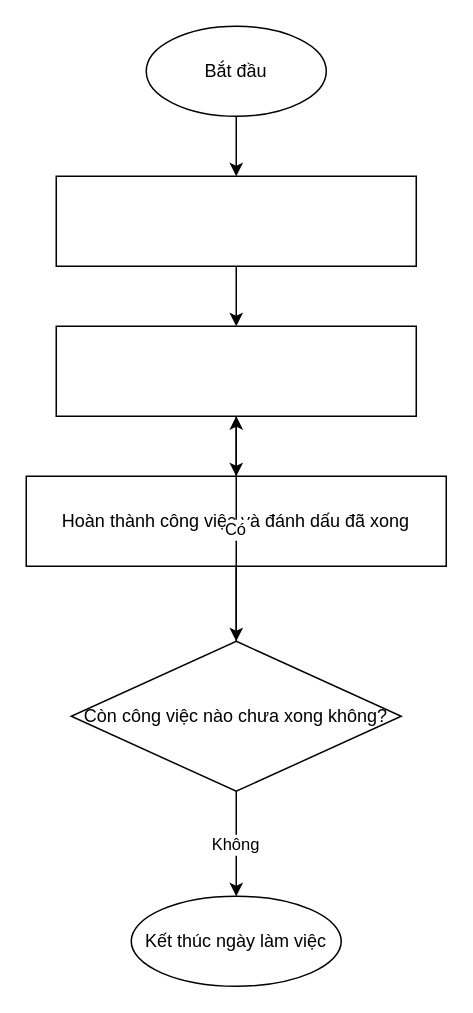
The diagram is 473 pixels wide and 1013 high, and some of its shapes have lost their labels. The box of each missing label's shape, as (x1, y1, x2, y2) in pixels:
Chọn công việc cần làm trước: (55, 325, 416, 416)
Liệt kê các công việc cần làm trong ngày: (55, 175, 416, 266)
